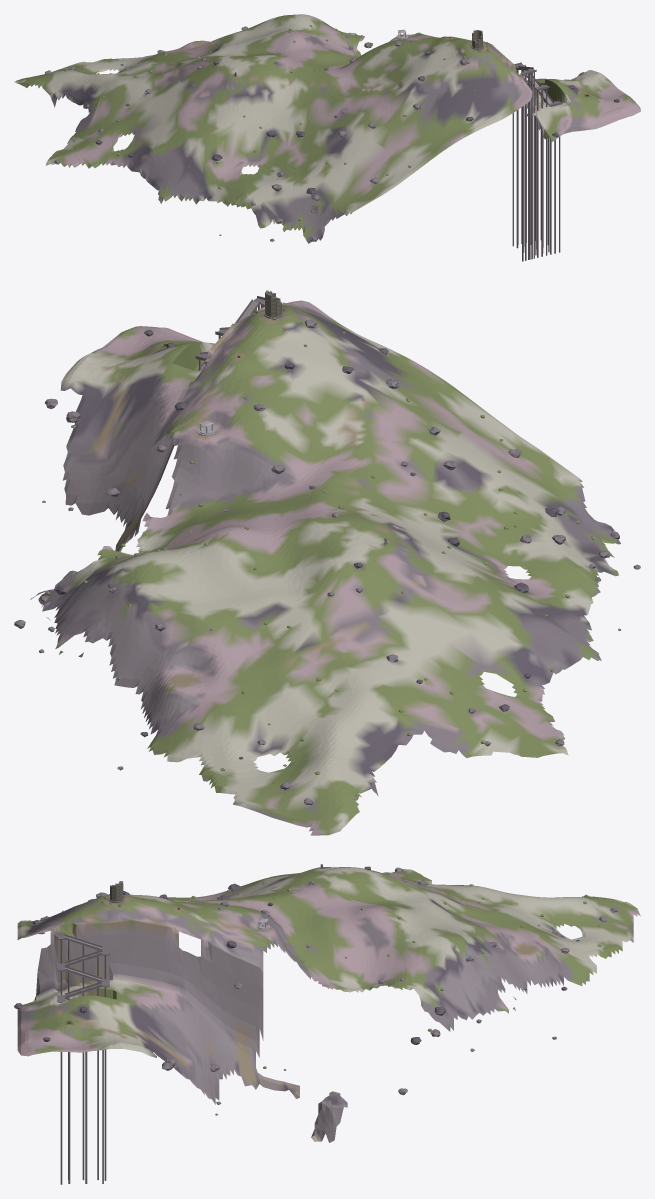
The model's file is coast_isl_saltglass_lod1.glb.
3 renders of one model, top to bottom at view 1: azimuth 30°, elevation 25°; view 2: azimuth 150°, elevation 25°; view 3: azimuth 270°, elevation 25°, orthographic. The views are drawn at different scales.
Visible parts, largest first — view 1: geometry_0; view 2: geometry_0; view 3: geometry_0.
Boxes of the visible parts, x1,y1,x2,y2 form: geometry_0: (14,14,640,261); geometry_0: (14,290,640,835); geometry_0: (14,864,640,1184).
Bounding box in the file's own units: 343 × 161 × 342.
